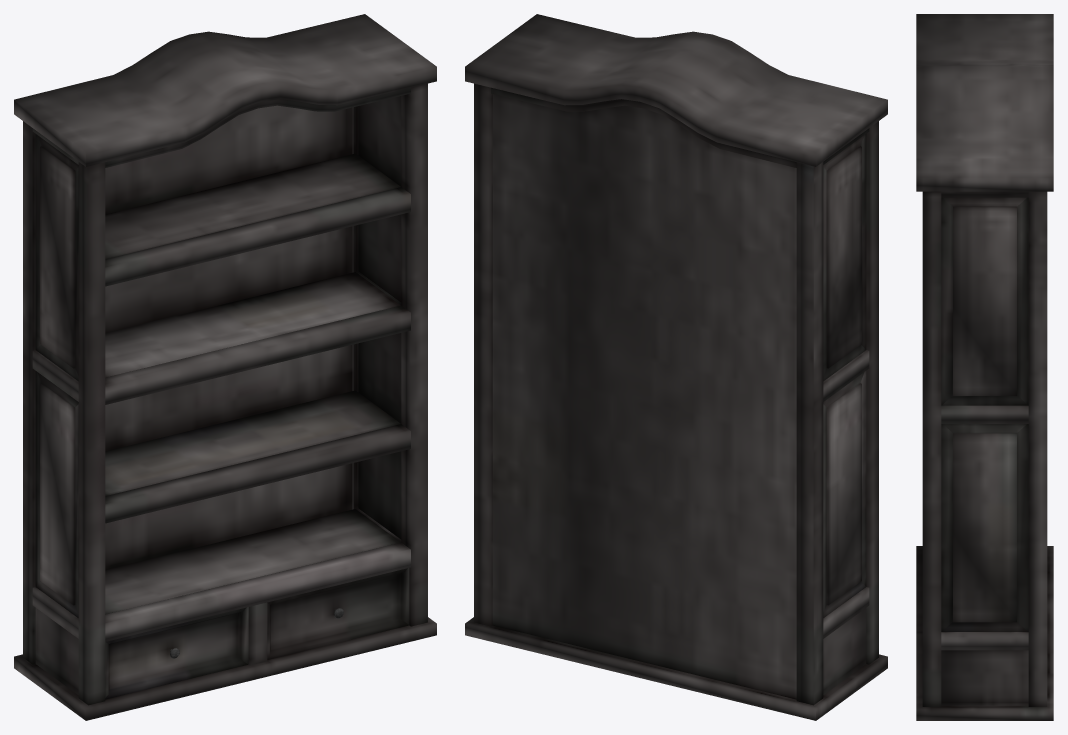
The model's file is bookshelf.glb.
The picture shows the model from 3 angles, left to right: view 1: azimuth 30°, elevation 25°; view 2: azimuth 150°, elevation 25°; view 3: azimuth 270°, elevation 25°; orthographic projection. The views are drawn at different scales.
Parts seen in each view (by area): view 1: bookshelf; view 2: bookshelf; view 3: bookshelf.
Part boxes in pixels (<box>): bookshelf: <box>14,14,436,720</box>; bookshelf: <box>465,14,887,720</box>; bookshelf: <box>916,14,1053,720</box>.
Bounding box in the file's own units: 1.24 × 2 × 0.4409.
Materials: 2 (2 with a texture image).
